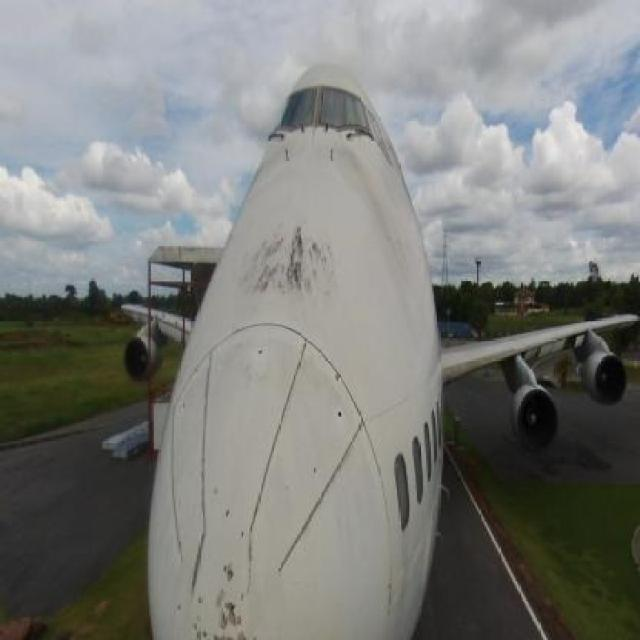Rust: (251, 202, 346, 318), (342, 145, 408, 298)
Scartch: (193, 538, 264, 640)
